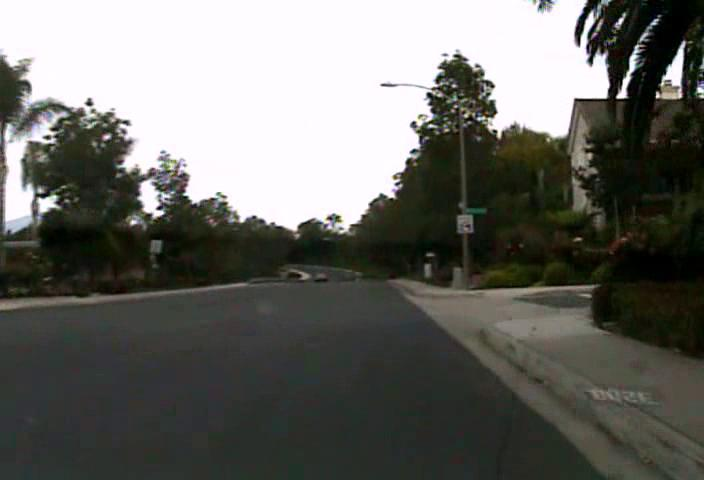speedLimitUrdbl: (456, 213, 473, 234)
